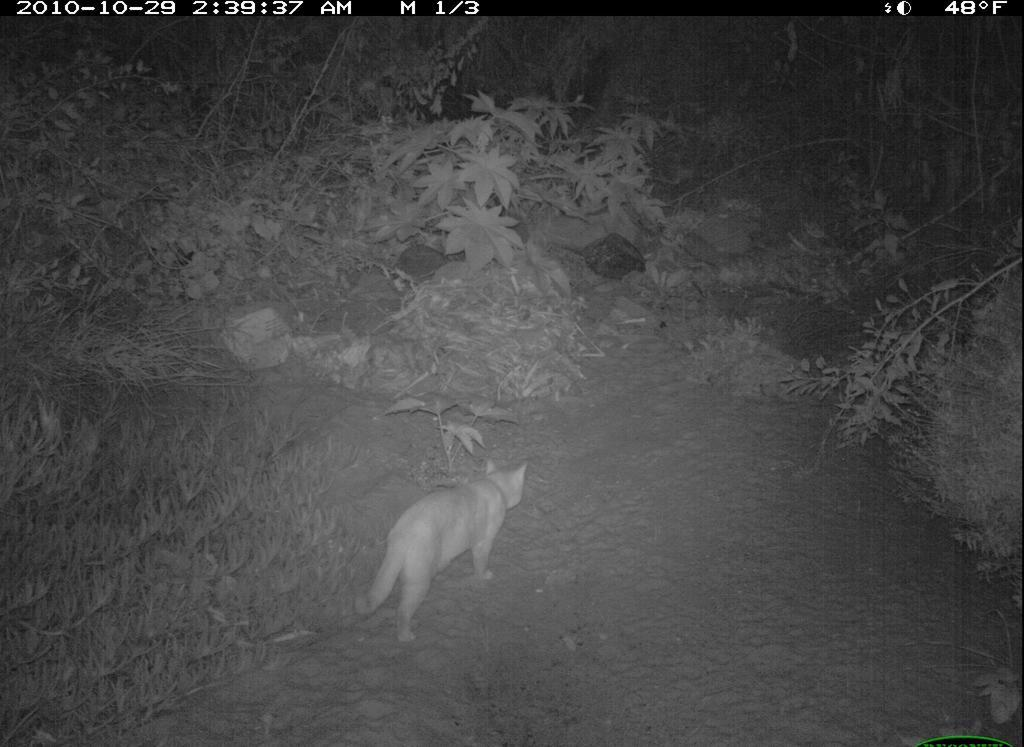cat: (335, 455, 534, 648)
